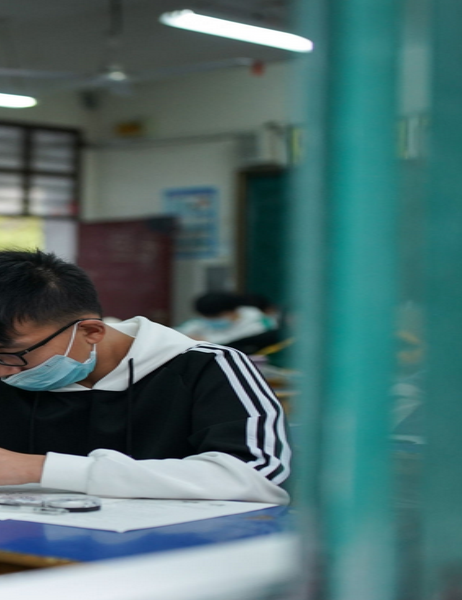mask_weared_incorrect: (1, 254, 93, 391)
